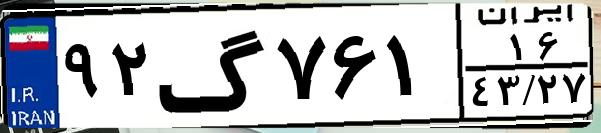1: (385, 28, 445, 110), (508, 27, 537, 80)
2: (110, 28, 156, 98), (535, 70, 560, 125)
3: (495, 70, 520, 125)
4: (470, 70, 495, 125)
6: (330, 28, 385, 110), (537, 27, 568, 80)
7: (270, 28, 330, 110), (560, 70, 590, 125)
9: (57, 26, 110, 100)
گ: (156, 12, 270, 120)
